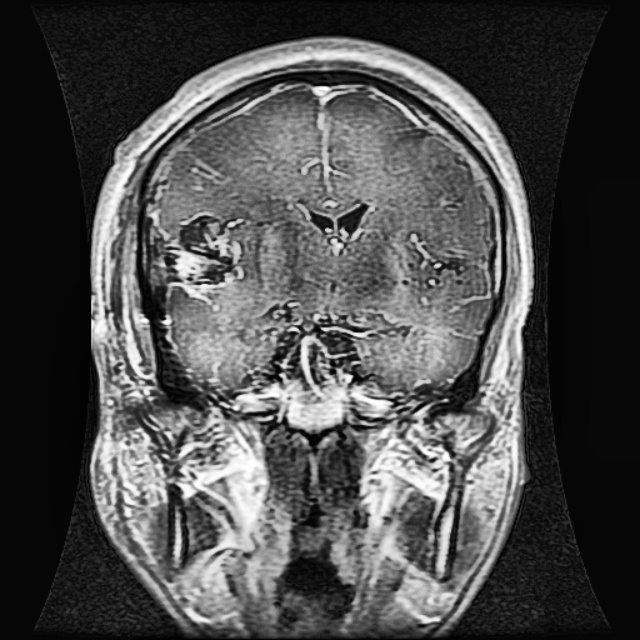Meningioma: (149, 208, 244, 309)
